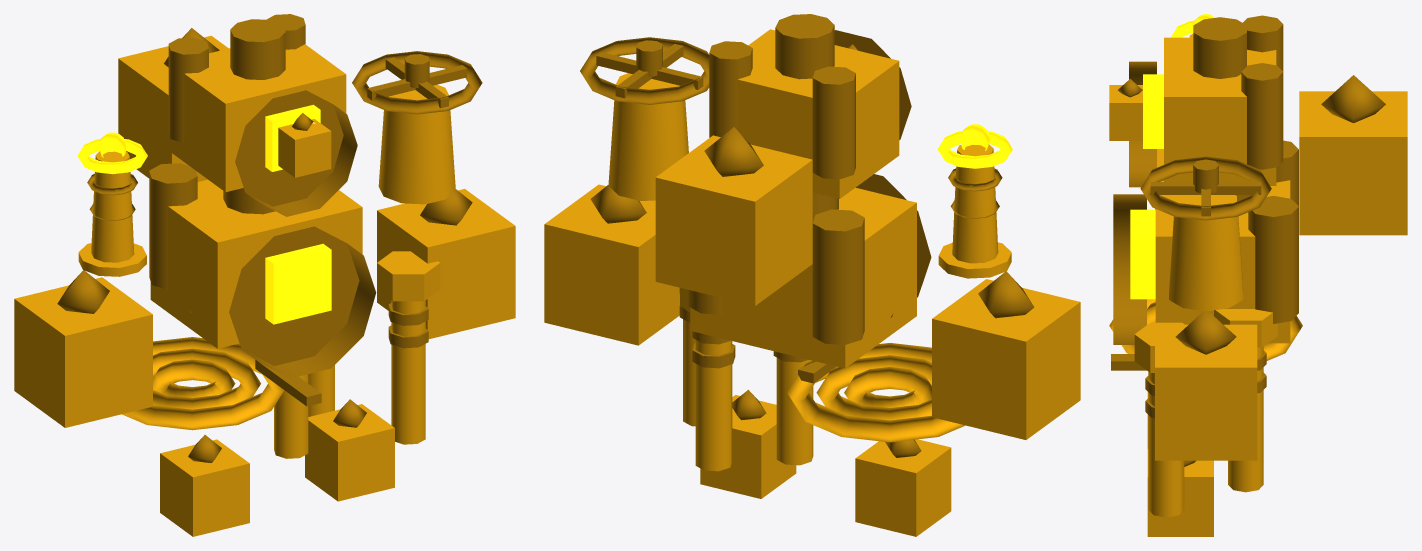
The model's file is golem_046.glb.
3 renders of one model, left to right at view 1: azimuth 30°, elevation 25°; view 2: azimuth 150°, elevation 25°; view 3: azimuth 270°, elevation 25°, orthographic. The views are drawn at different scales.
Visible parts, largest first — view 1: Body, Detail, Glow; view 2: Body, Detail, Glow; view 3: Body, Detail, Glow.
Boxes of the visible parts, box(x1,y1,x2,y2) form: Body: box(14, 35, 515, 536); Detail: box(57, 14, 482, 462); Glow: box(77, 104, 331, 324); Body: box(544, 29, 1080, 536); Detail: box(580, 14, 1034, 457); Glow: box(937, 124, 1012, 168); Body: box(1109, 34, 1407, 536); Detail: box(1111, 15, 1385, 466); Glow: box(1130, 14, 1214, 299).
Size of the model in its own units: 1.48 by 1.43 by 0.8432.
